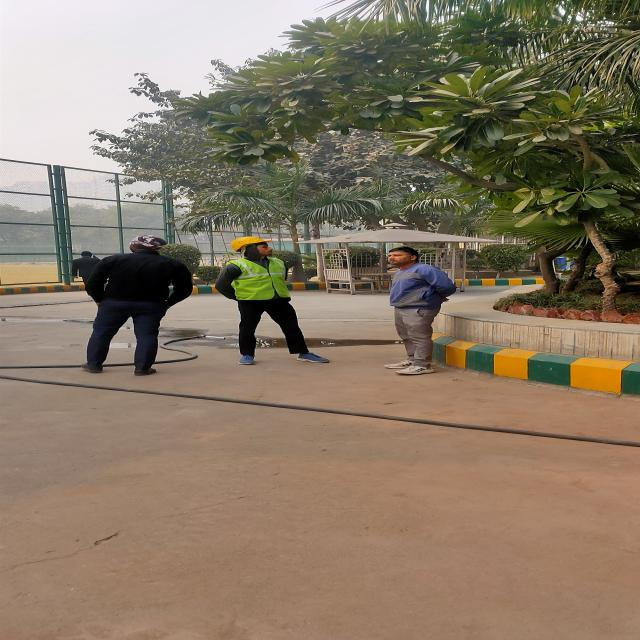safe: (216, 237, 339, 365)
unsafe: (80, 235, 190, 376), (385, 247, 455, 375)
